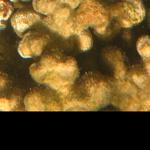dead: (4, 3, 148, 110)
